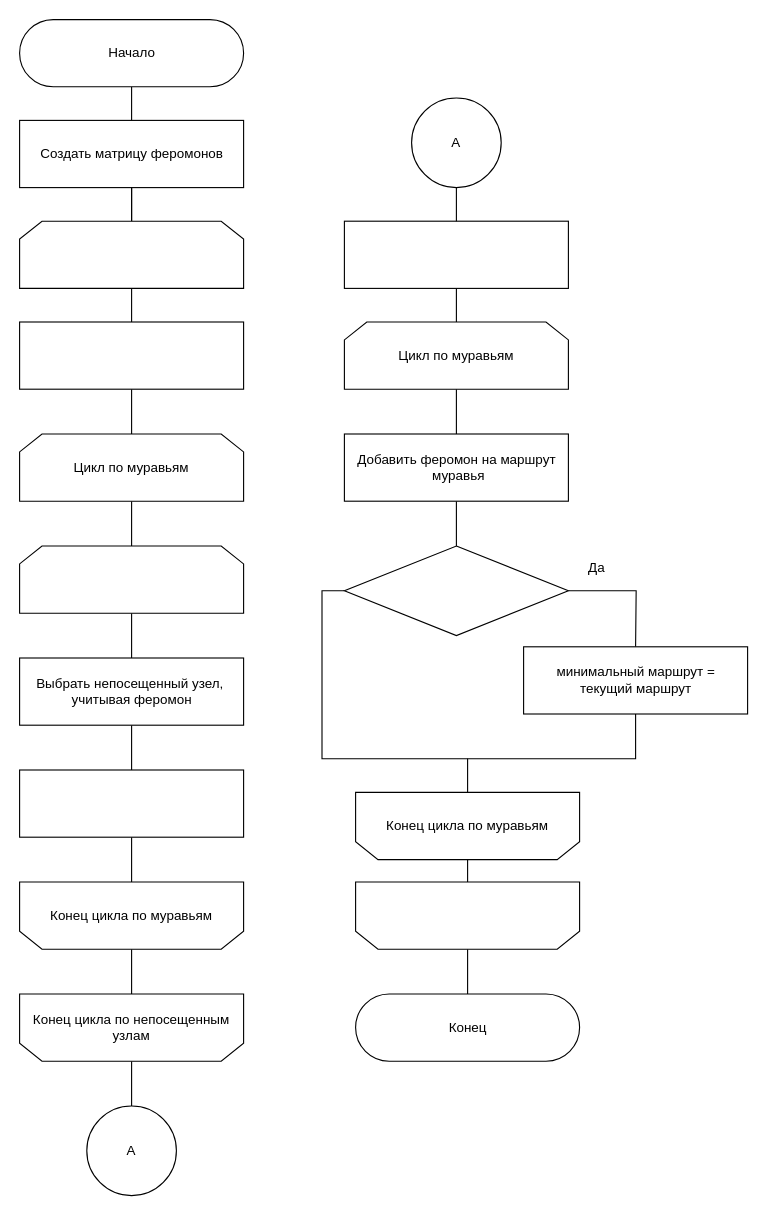
Image size: 767x1215. Some labels were removed from this diagram. Here are the shapes that lost their labels. From the top down, the centre of each, then its label:
At point 131,254: "Цикл по дням".
At point 455,254: "Применить испарение феромонов".
At point 131,355: "Создать муравьев с начальным городом".
At point 131,579: "Цикл по непосещенным узлам".
At point 455,590: "минимальный маршрут > текущего маршрута".
At point 131,803: "Добавить узел в маршрут муравья".
At point 467,915: "Конец цикла по дням".
